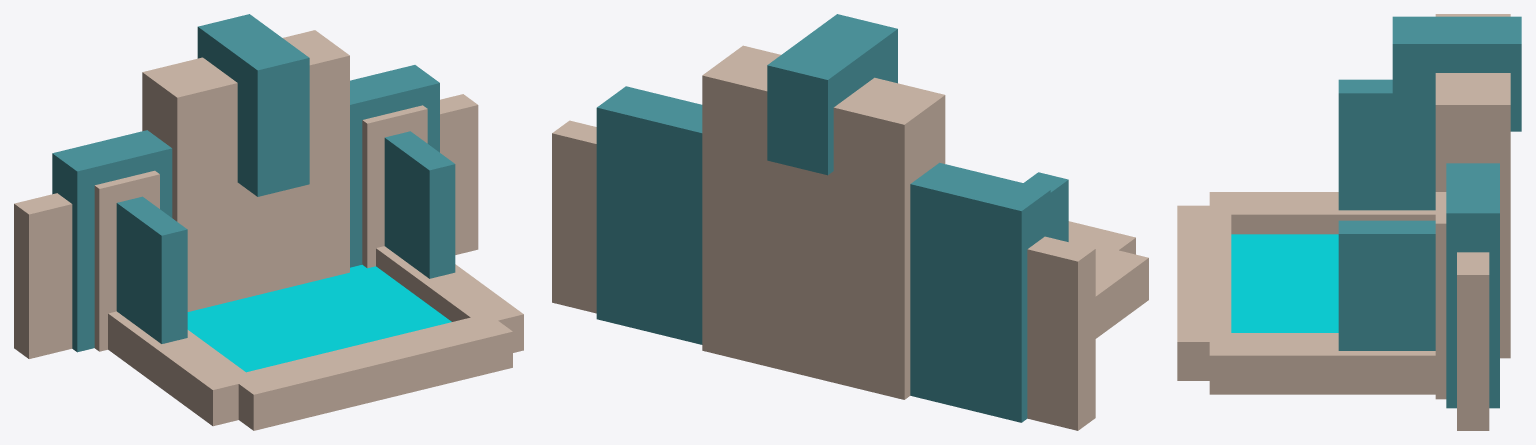
File: fountain.dae
The picture shows the model from 3 angles, left to right: view 1: azimuth 30°, elevation 25°; view 2: azimuth 150°, elevation 25°; view 3: azimuth 270°, elevation 25°; orthographic projection. The views are drawn at different scales.
Parts seen in each view (by area): view 1: $dummy_node (×3); view 2: $dummy_node (×2); view 3: $dummy_node (×3).
Boxes of the visible parts, x1,y1,x2,y2 form: $dummy_node (×3): [14, 14, 523, 430]; $dummy_node (×2): [552, 14, 1148, 430]; $dummy_node (×3): [1177, 14, 1521, 430].
Bounding box in the file's own units: 5.2 × 2.9 × 3.2.
